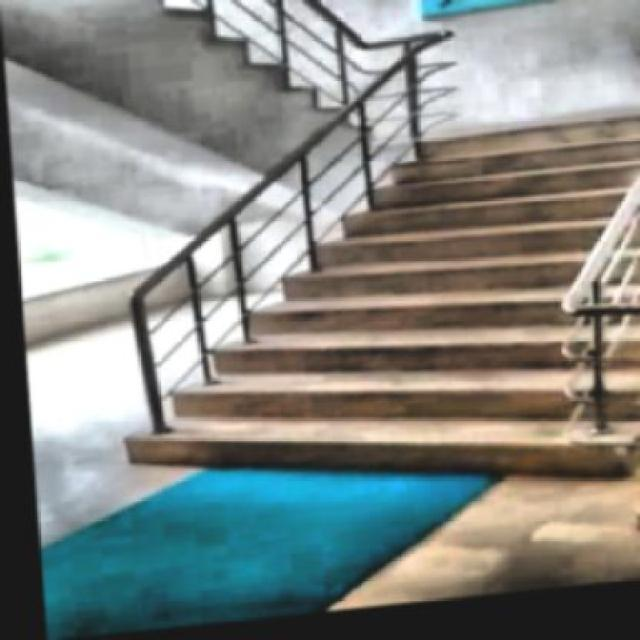stair: (86, 115, 639, 514)
